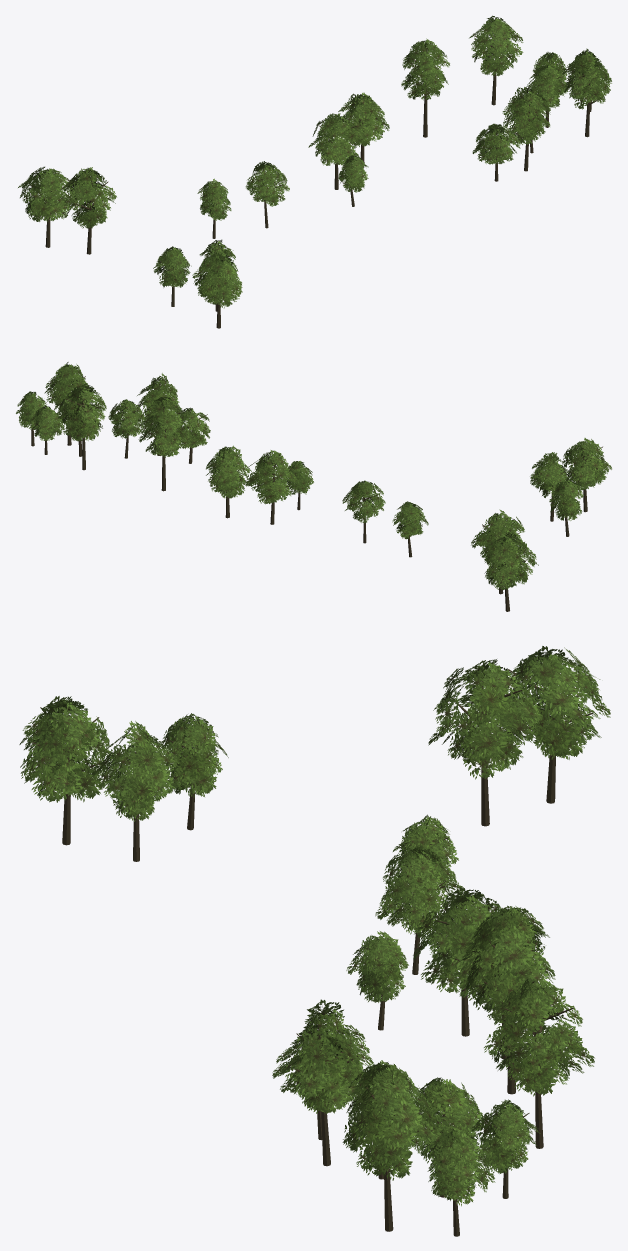
Rendered from TRB8-FOREST-CHUNK-5-6.glb.
3 views of the same model, one above another, from view 1: azimuth 30°, elevation 25°; view 2: azimuth 150°, elevation 25°; view 3: azimuth 270°, elevation 25° (orthographic). The views are drawn at different scales.
Parts seen in each view (by area): view 1: TRB8-FOREST-CHUNK-5-6; view 2: TRB8-FOREST-CHUNK-5-6; view 3: TRB8-FOREST-CHUNK-5-6.
Part boxes in pixels (x1,y1,x2,y2): TRB8-FOREST-CHUNK-5-6: [18, 15, 611, 328]; TRB8-FOREST-CHUNK-5-6: [16, 362, 611, 611]; TRB8-FOREST-CHUNK-5-6: [19, 646, 610, 1236].
Bounding box in the file's own units: 37.87 × 8.12 × 18.15.
Materials: 2 (1 with a texture image).
